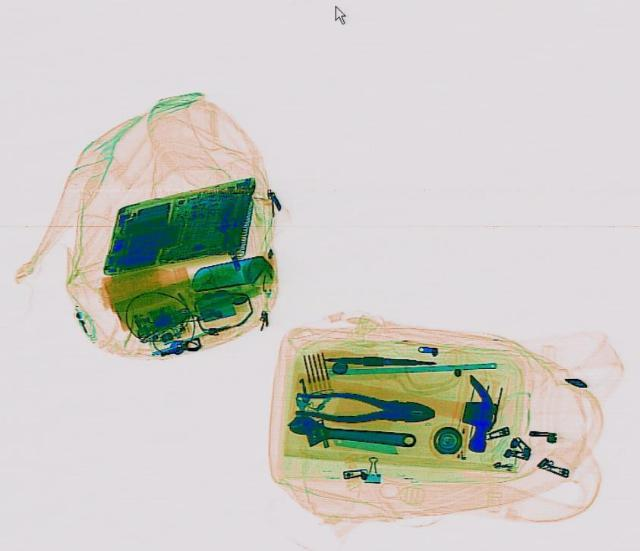Pliers: (290, 389, 436, 426)
Wrench: (282, 411, 416, 455)
